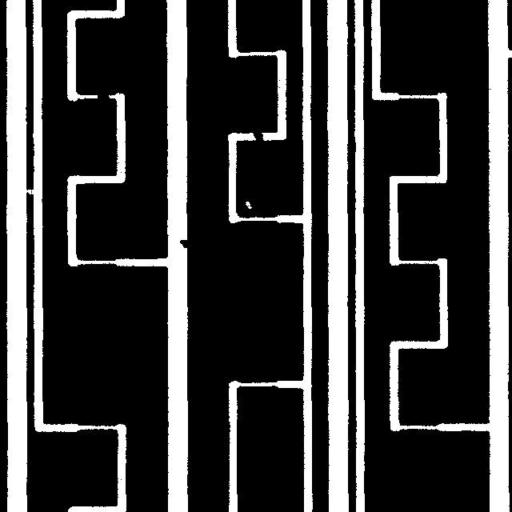open: (16, 181, 42, 202)
pin-hole: (238, 194, 259, 216)
short: (245, 122, 271, 153), (90, 85, 117, 107)
spur: (172, 232, 200, 255)
